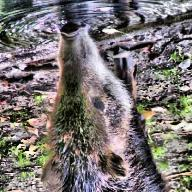boar: (28, 19, 164, 192)
